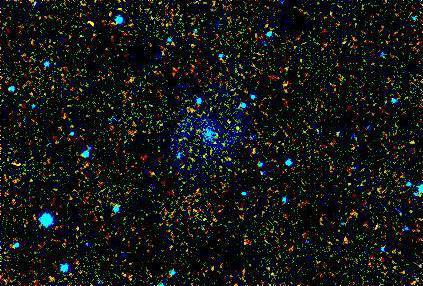star: (178, 99, 208, 129)
